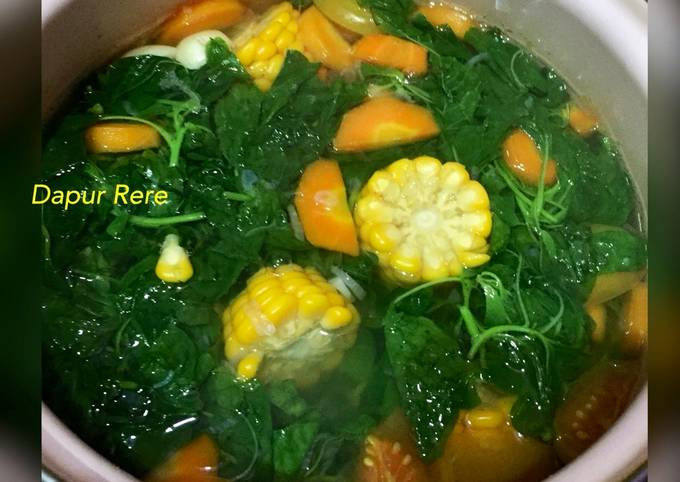Sayur Bayam: (74, 31, 615, 437)
